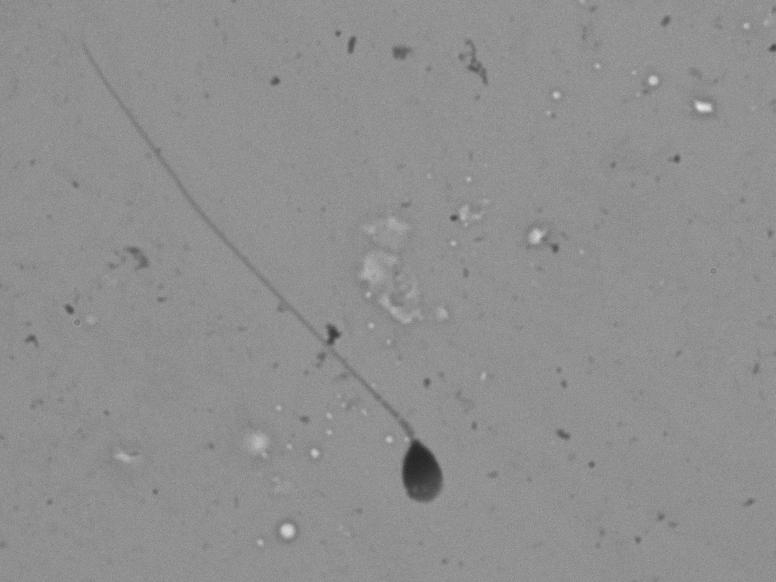Normal: (61, 32, 494, 510)
